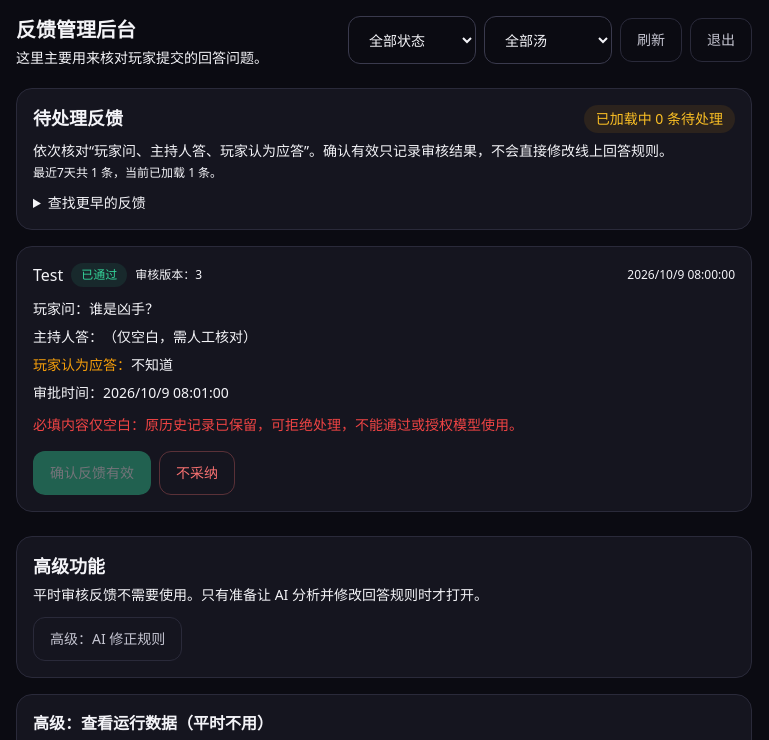
previously approved invalid historical feedback still offers a safe reject action
The image size is (769, 740).
What coordinates should you click on to do the following:
click the button "不采纳"
I would click on:
 (197, 473)
Its box is [159,451,235,495].
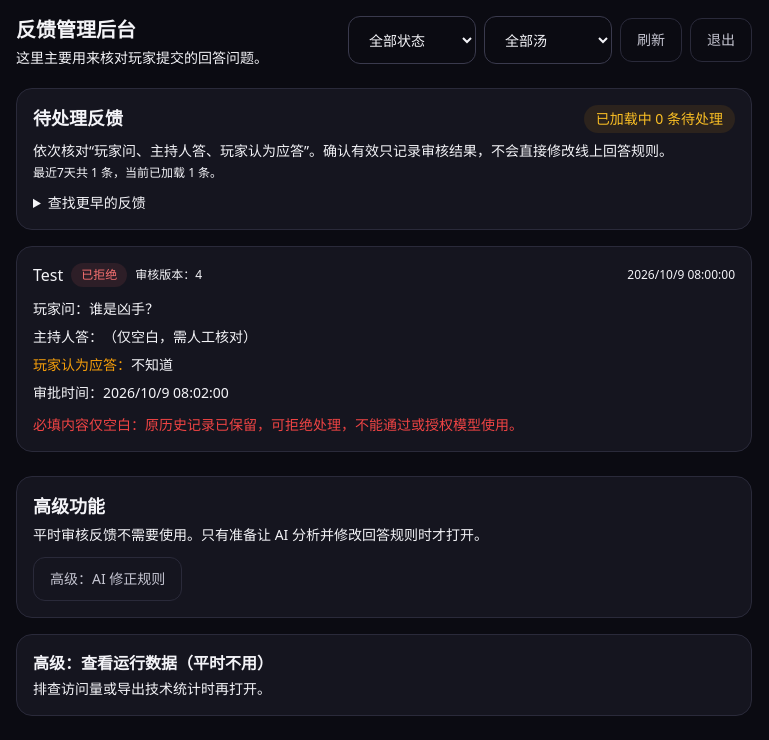
Now the text "审核版本：4" is shown, box [135,267,202,283]
Now the button "不采纳" is gone
